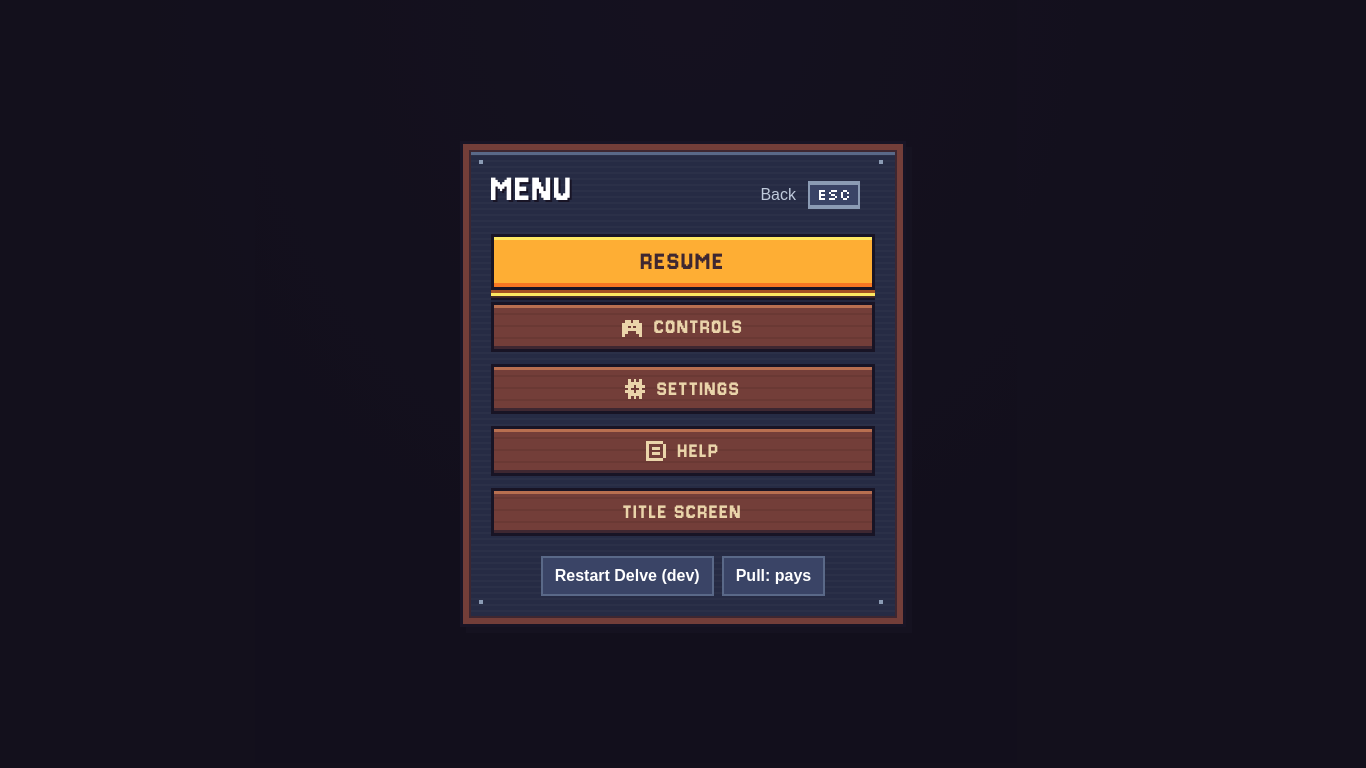
SystemMenu › opens Controls and Settings in its place, and their Close comes back to it
Step 1. Click the button with test id "open-controls" → [683, 327], box [491,302,875,352]
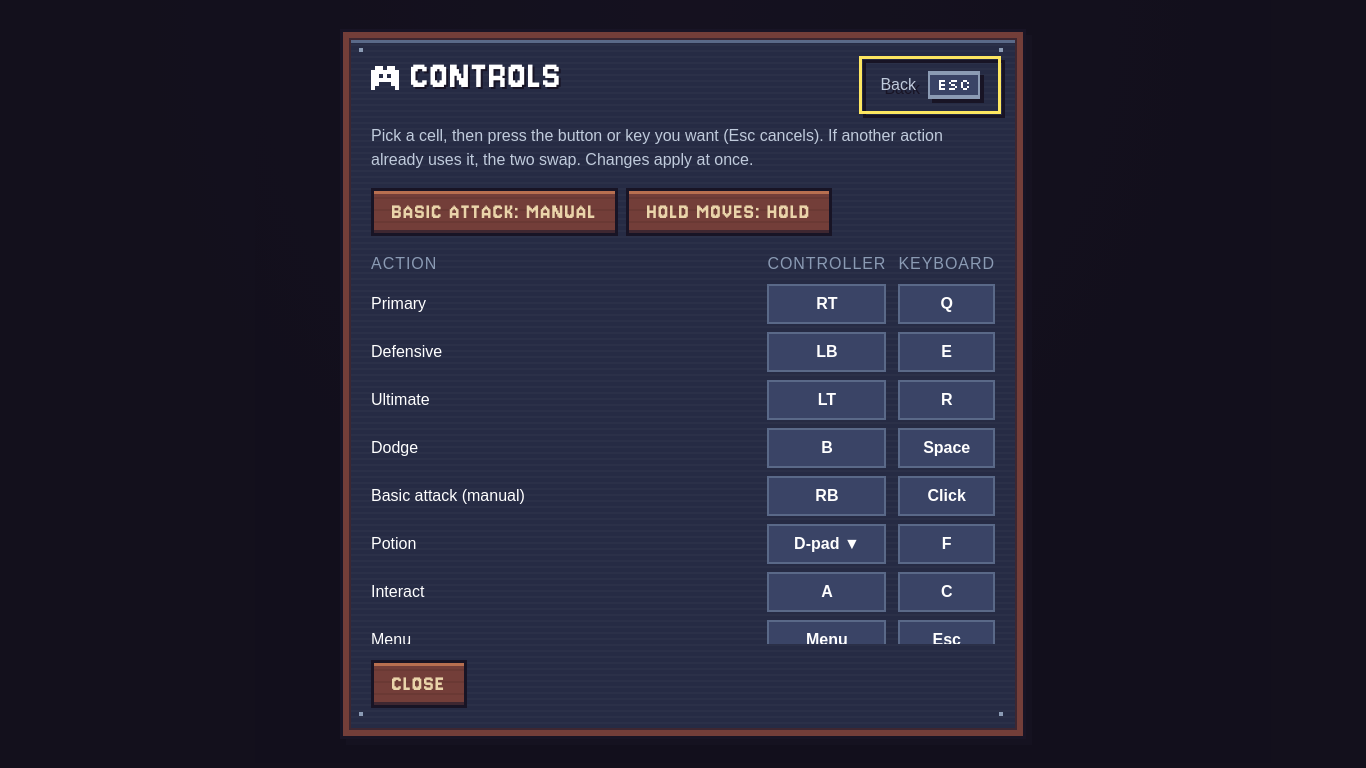
Now the dialog with test id "controls-panel" is shown, box [343,32,1023,736]
Now the dialog with test id "system-menu" is gone
Step 2. Click the button with test id "controls-close" → [419, 684], box [371,660,467,708]
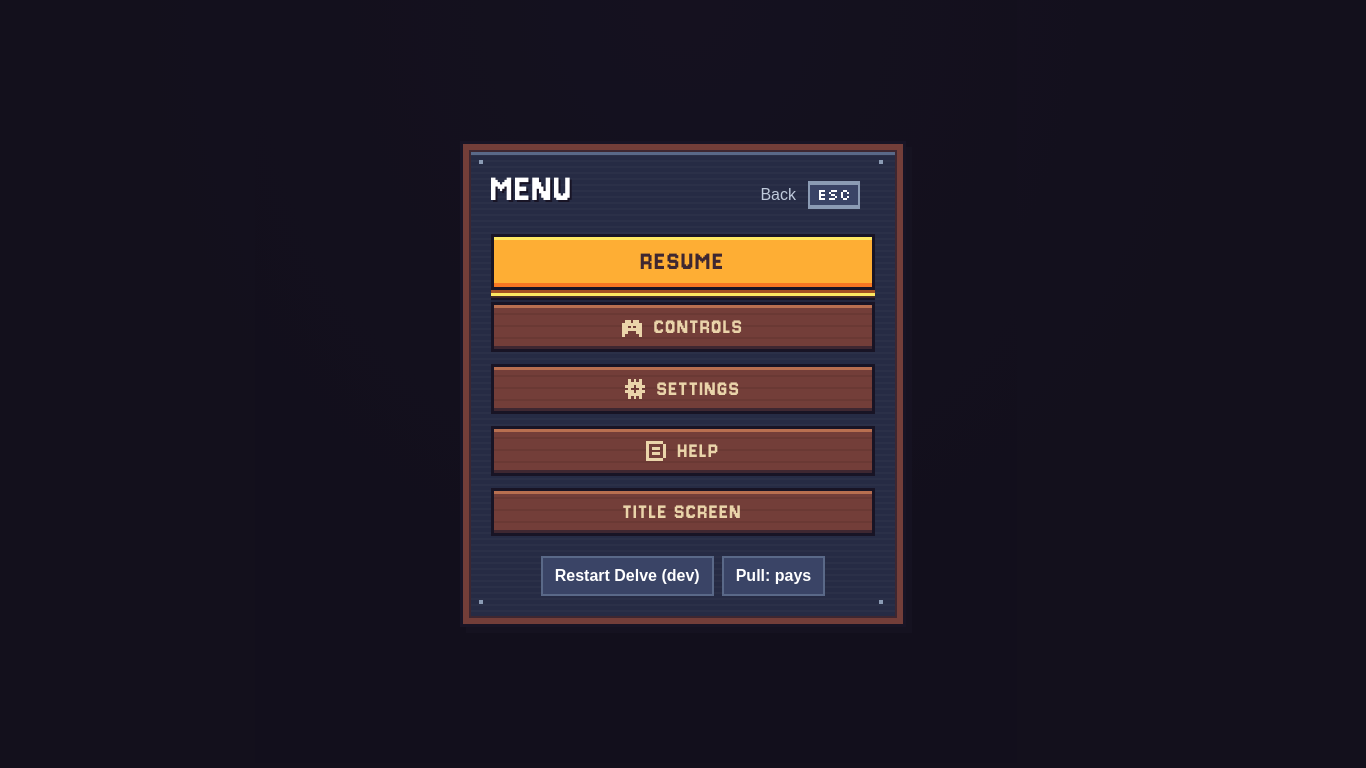
Now the dialog with test id "system-menu" is shown, box [463,144,903,624]
Step 3. Click the button with test id "open-settings" → [683, 389], box [491,364,875,414]
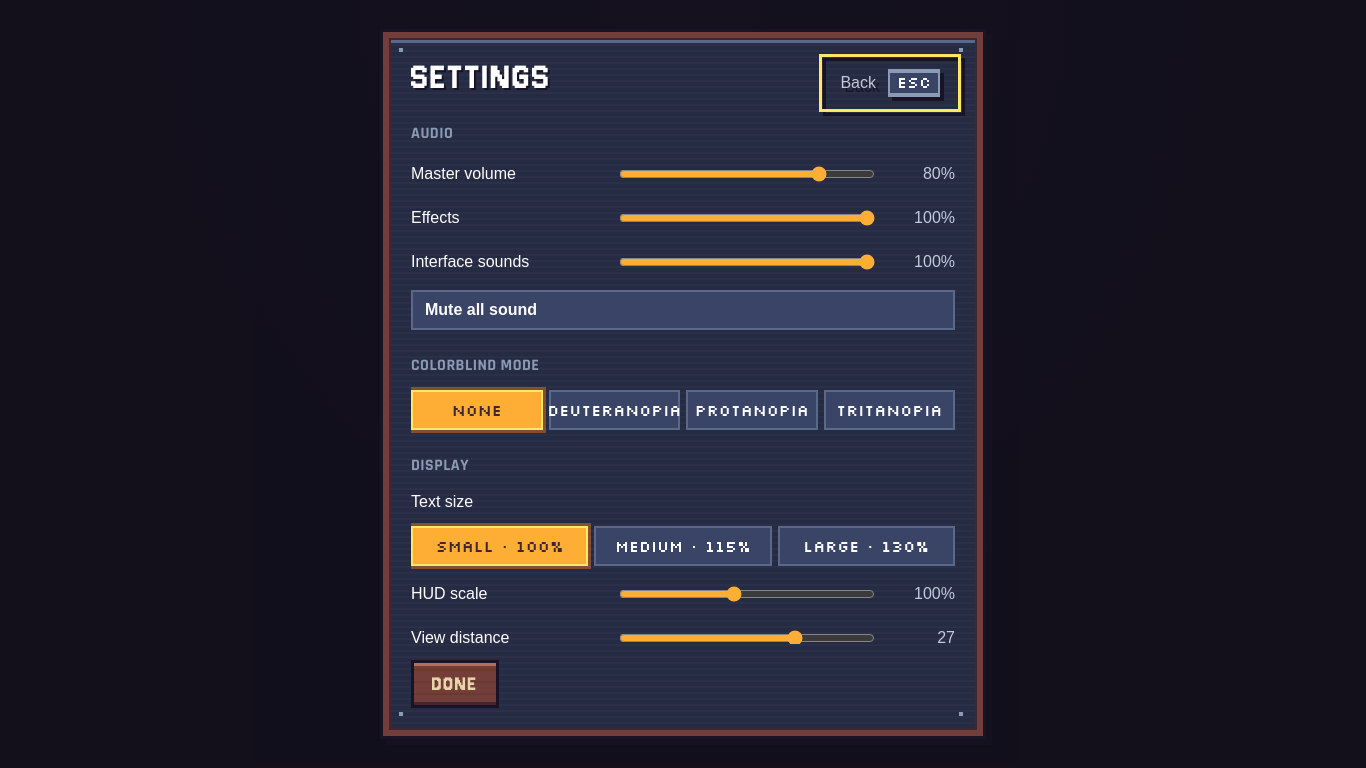
Now the dialog with test id "settings-panel" is shown, box [383,32,983,736]
Step 4. Click the button with test id "settings-close" → [455, 684], box [411,660,499,708]
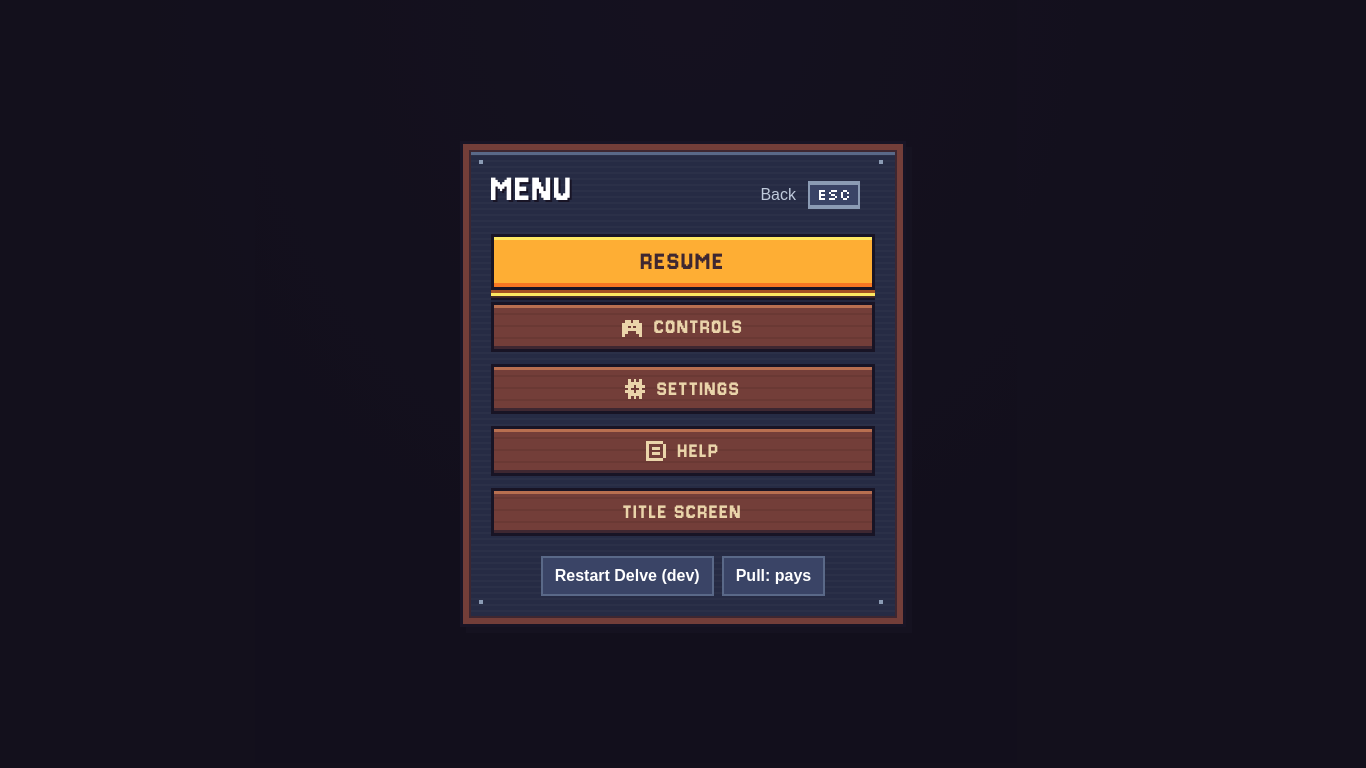
Now the dialog with test id "system-menu" is shown, box [463,144,903,624]
